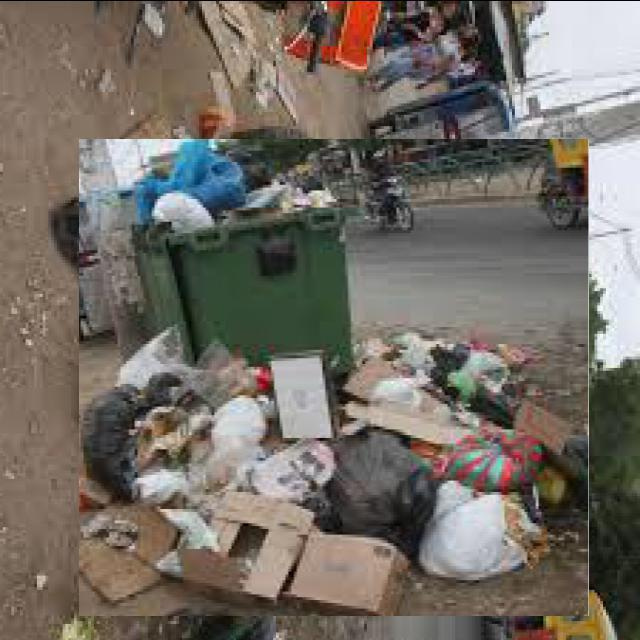Trashbag: (320, 420, 448, 546), (83, 386, 166, 491)
